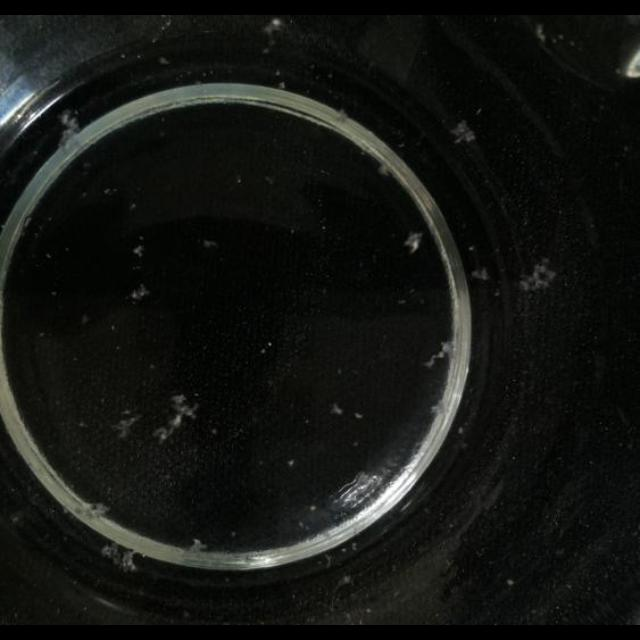Fibre: (155, 392, 199, 440), (518, 262, 556, 292), (326, 396, 369, 422), (104, 546, 138, 574), (260, 17, 288, 51), (423, 342, 453, 371), (58, 110, 82, 146), (168, 393, 194, 417), (428, 394, 452, 418), (114, 416, 140, 438), (80, 501, 108, 521), (451, 121, 474, 143), (403, 231, 422, 253), (130, 283, 150, 301), (377, 160, 393, 178), (188, 539, 208, 553), (473, 268, 491, 282), (328, 402, 344, 416), (152, 427, 168, 441), (267, 17, 283, 31)
